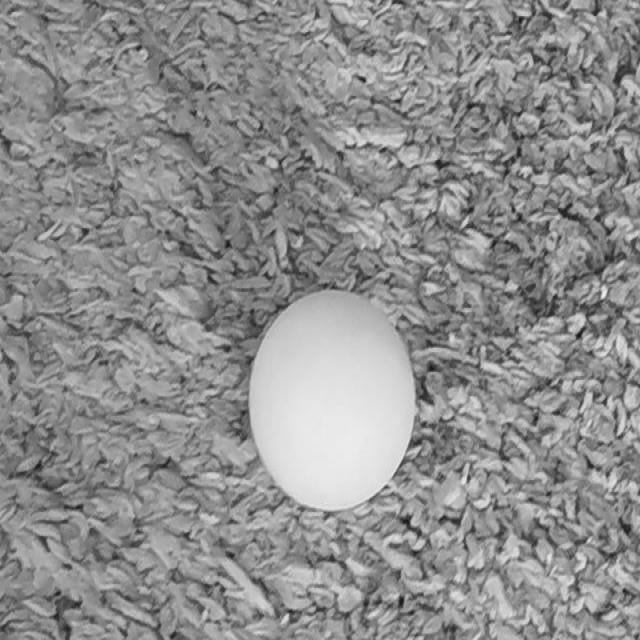ping-pong-ball: (253, 294, 413, 512)
